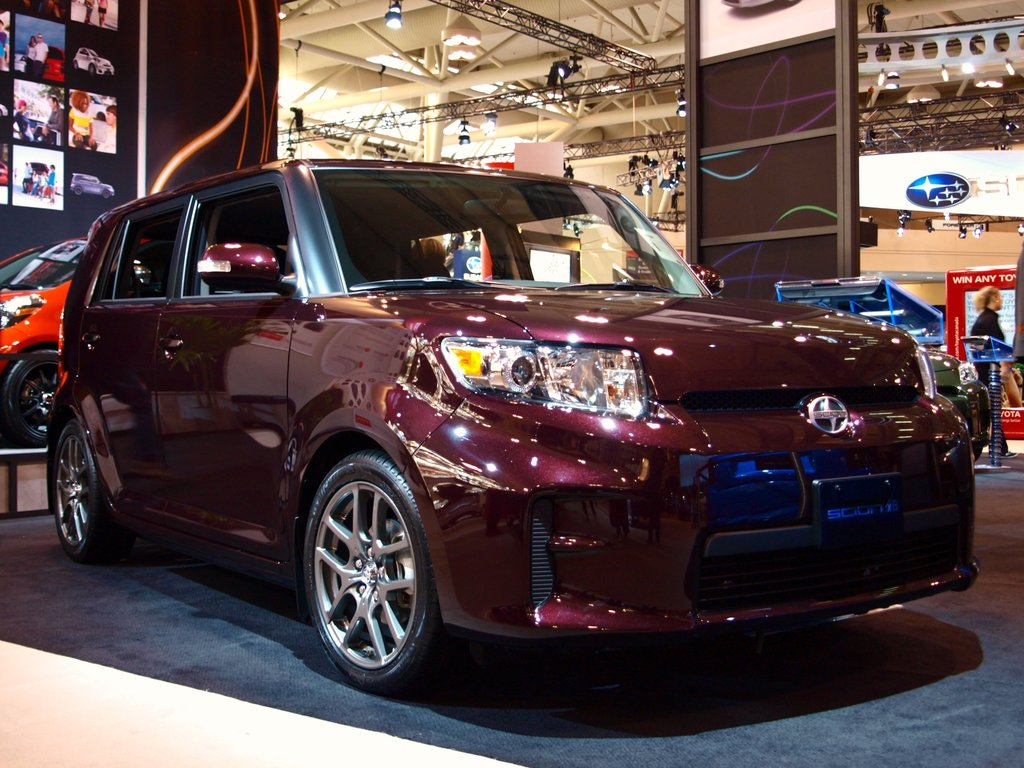Car: (44, 155, 983, 703), (0, 235, 81, 448), (924, 346, 991, 438)
